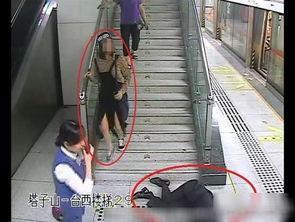Fall-Detected: (124, 168, 226, 217)
